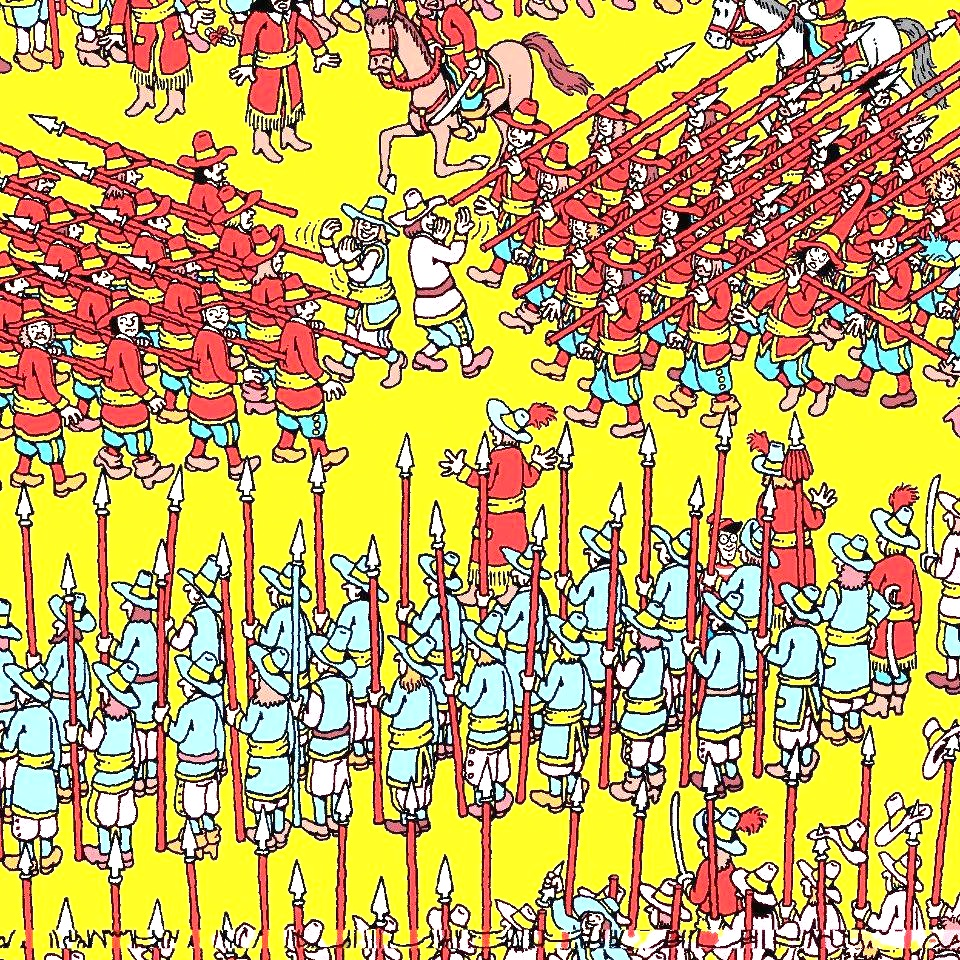waldo: (710, 515, 739, 577)
